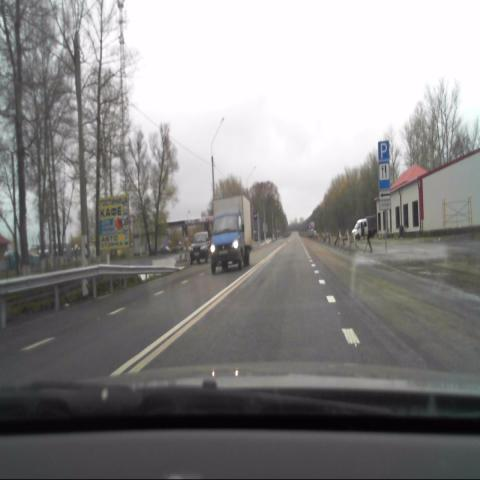7_7: (378, 162, 390, 190)
